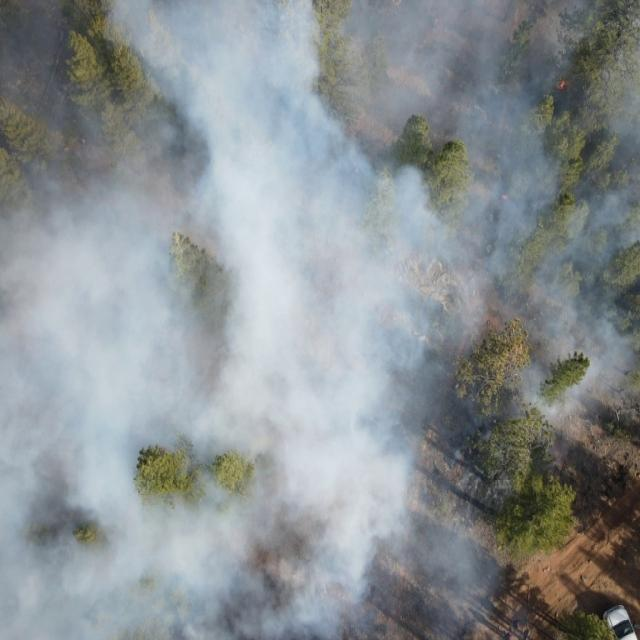fire: (557, 77, 569, 94)
smoke: (1, 0, 507, 640), (506, 1, 640, 494)
